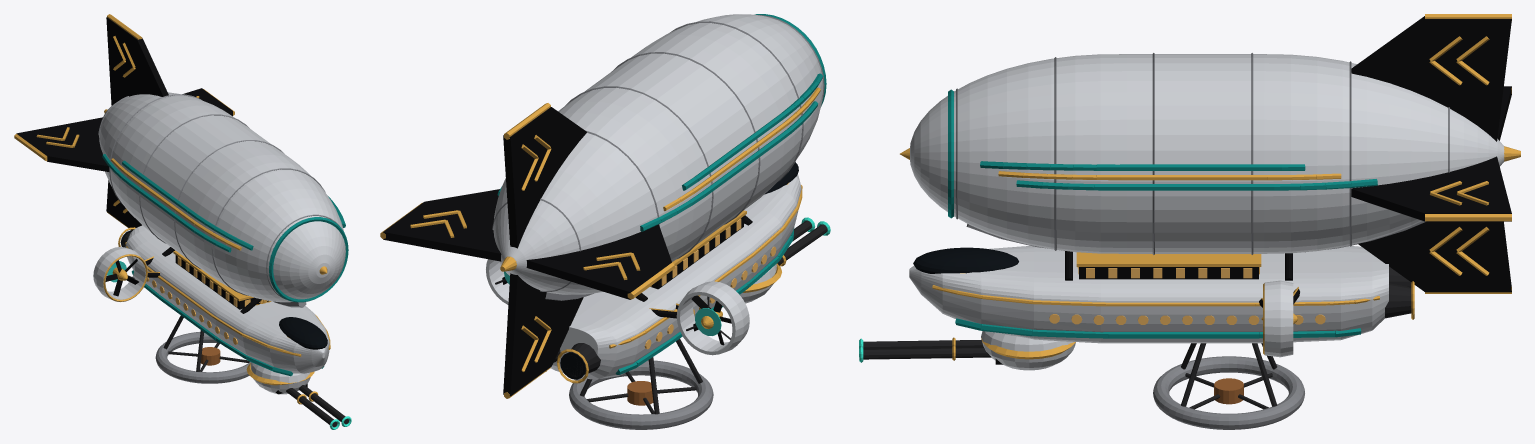
Rendered from frigate.obj.
3 renders of one model, left to right at view 1: azimuth 30°, elevation 25°; view 2: azimuth 150°, elevation 25°; view 3: azimuth 270°, elevation 25°, orthographic. The views are drawn at different scales.
Parts seen in each view (by area): view 1: frigate; view 2: frigate; view 3: frigate.
Part boxes in pixels (bbox=[...]): frigate: bbox=[14, 14, 351, 429]; frigate: bbox=[380, 14, 830, 429]; frigate: bbox=[859, 14, 1520, 429].
Size of the model in its own units: 177 by 245 by 380.
1 material, 1 textured.
